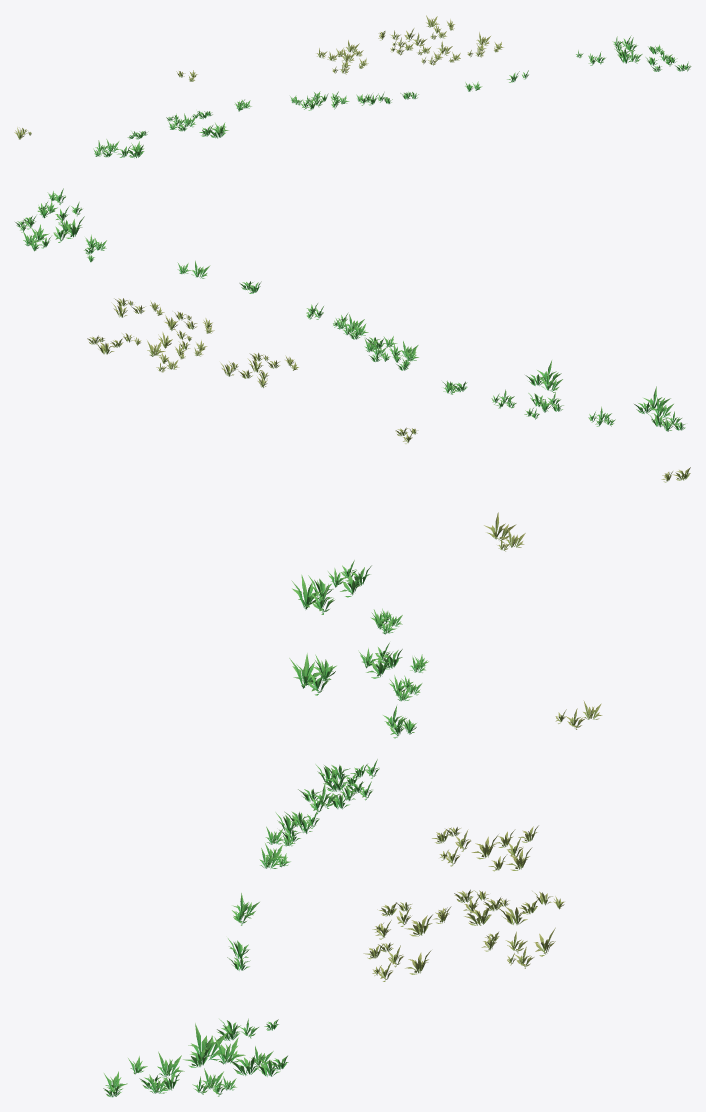
Rendered from area_06_9.fbx.
The picture shows the model from 3 angles, top to bottom: view 1: azimuth 30°, elevation 25°; view 2: azimuth 150°, elevation 25°; view 3: azimuth 270°, elevation 25°; orthographic projection. The views are drawn at different scales.
Visible parts, largest first — view 1: area_06_9; view 2: area_06_9; view 3: area_06_9.
Part boxes in pixels (x1,y1,x2,y2): area_06_9: [14, 15, 691, 158]; area_06_9: [15, 188, 690, 482]; area_06_9: [103, 512, 602, 1097].
Bounding box in the file's own units: 63.32 × 1.64 × 23.67.
